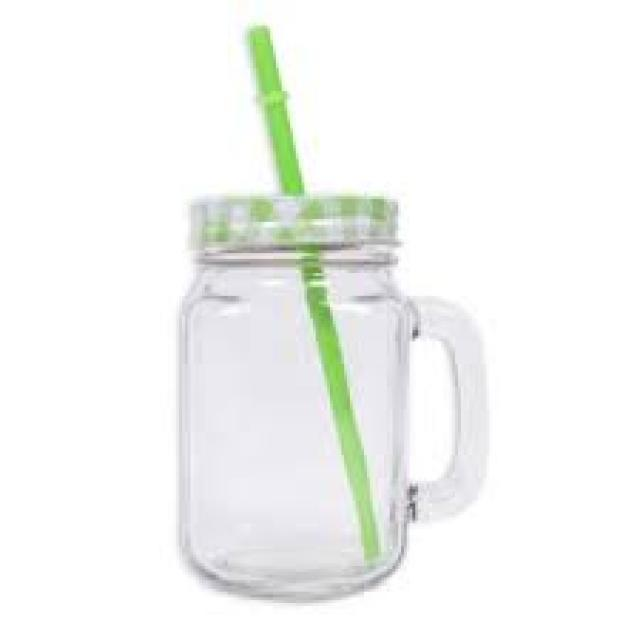glass: (171, 194, 484, 598)
metal: (185, 196, 392, 245)
